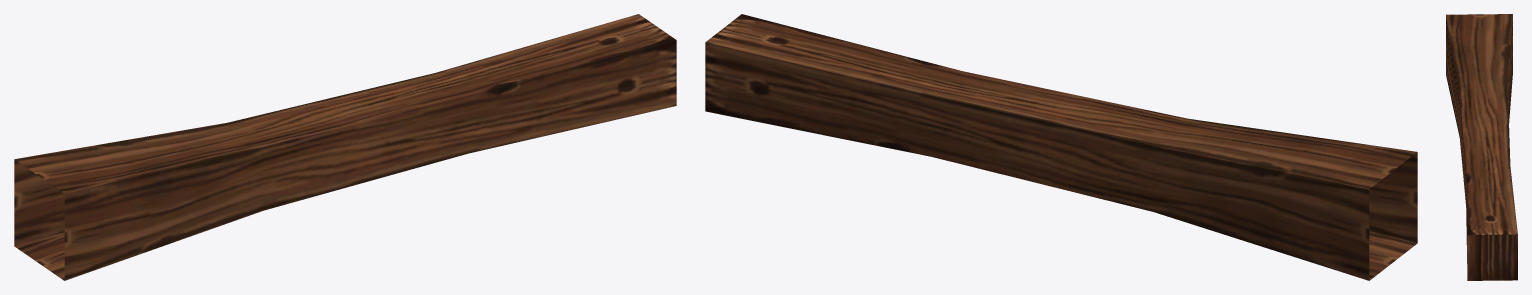
The model's file is OVERHILL_A_01_POST26.fbx.
3 renders of one model, left to right at view 1: azimuth 30°, elevation 25°; view 2: azimuth 150°, elevation 25°; view 3: azimuth 270°, elevation 25°, orthographic. The views are drawn at different scales.
Parts seen in each view (by area): view 1: OVERHILL_A_01_POST26; view 2: OVERHILL_A_01_POST26; view 3: OVERHILL_A_01_POST26.
Boxes of the visible parts, x1=… form: OVERHILL_A_01_POST26: x1=14, y1=14, x2=676, y2=280; OVERHILL_A_01_POST26: x1=705, y1=14, x2=1417, y2=280; OVERHILL_A_01_POST26: x1=1446, y1=14, x2=1517, y2=280.
Size of the model in its own units: 16832 by 2225 by 2391.
1 material, 1 textured.
